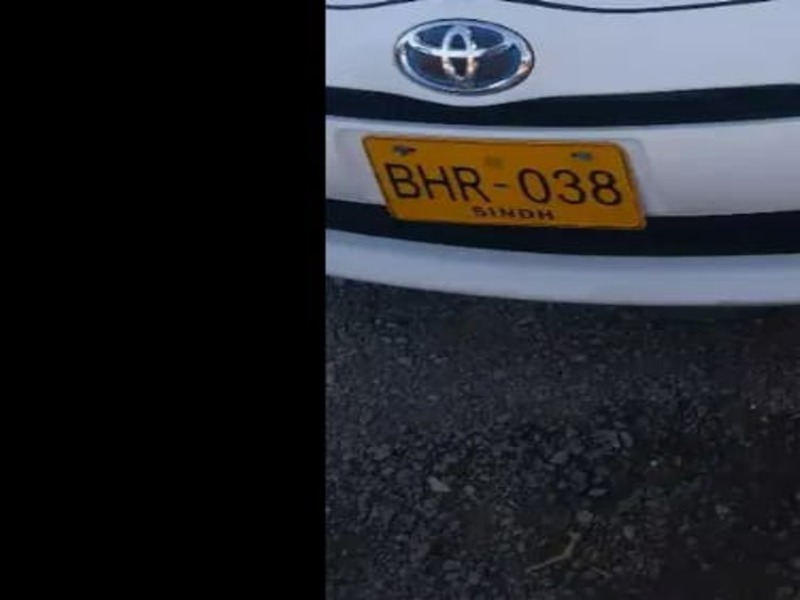License Plate: (362, 126, 654, 238)
